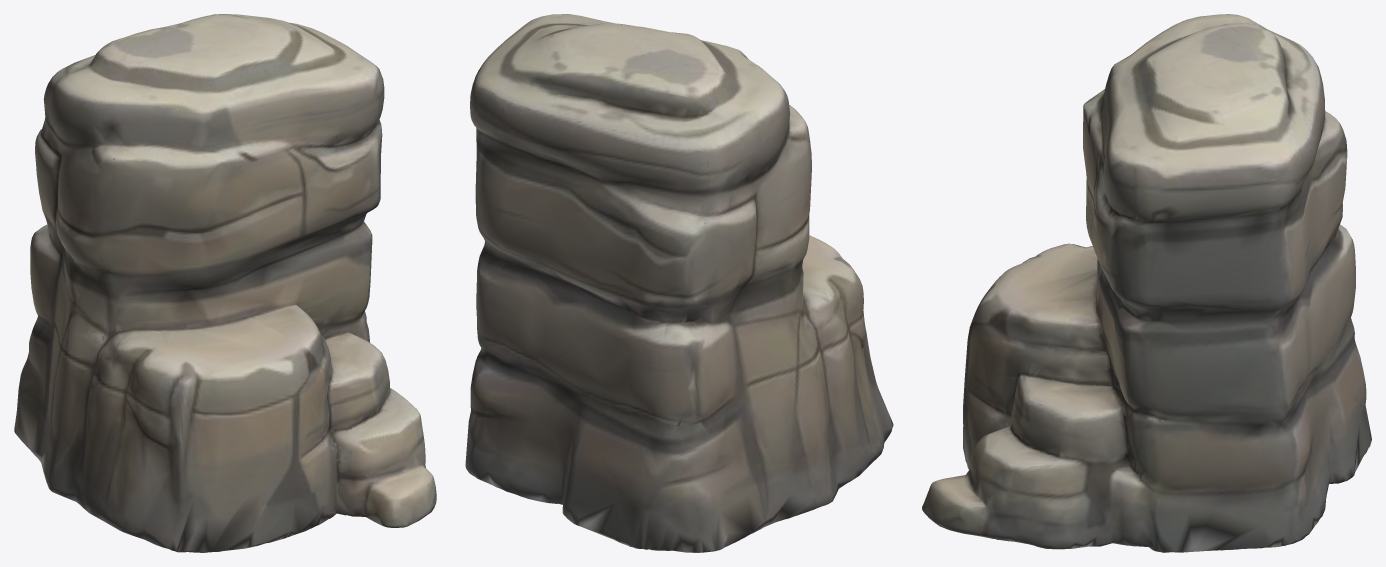
File: cascata1.glb
The picture shows the model from 3 angles, left to right: view 1: azimuth 30°, elevation 25°; view 2: azimuth 150°, elevation 25°; view 3: azimuth 270°, elevation 25°; orthographic projection. The views are drawn at different scales.
Bounding box in the file's own units: 1.64 × 2 × 1.95.
Materials: 1 (1 with a texture image).
